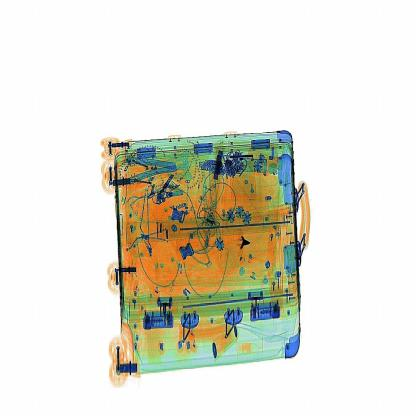gun: (230, 224, 254, 261)
